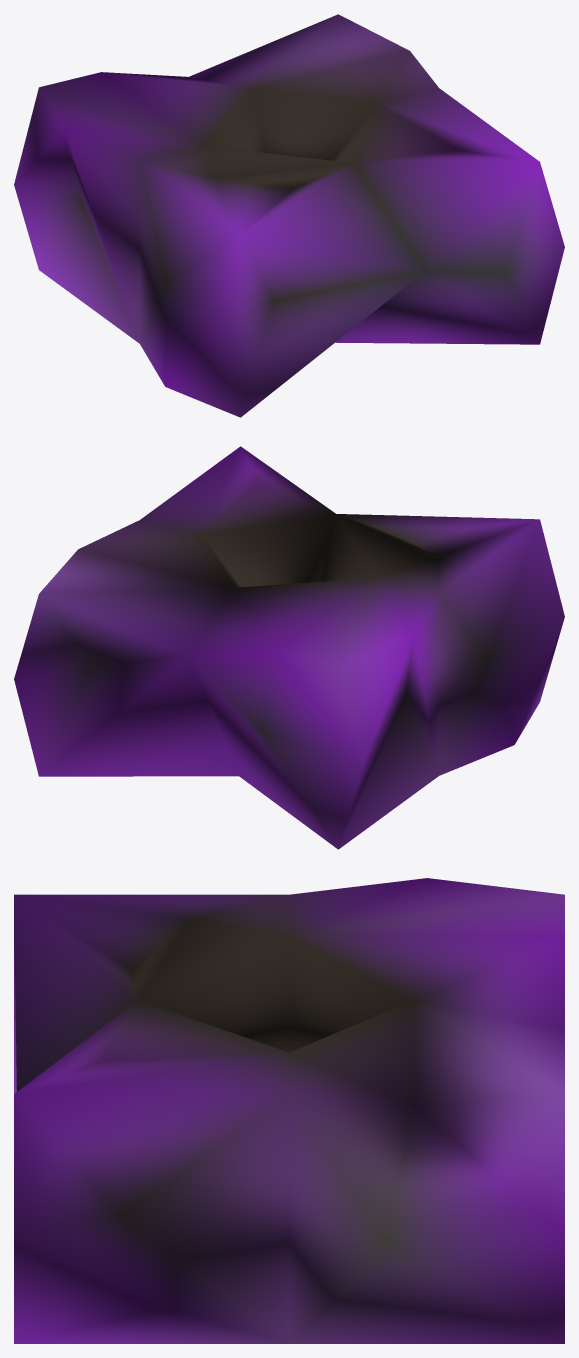
File: ciws_base_lod7.glb
3 views of the same model, one above another, from view 1: azimuth 30°, elevation 25°; view 2: azimuth 150°, elevation 25°; view 3: azimuth 270°, elevation 25° (orthographic). The views are drawn at different scales.
Visible parts, largest first — view 1: ciws_base; view 2: ciws_base; view 3: ciws_base.
Boxes of the visible parts, <box> form: ciws_base: <box>14,14,564,417</box>; ciws_base: <box>14,446,564,849</box>; ciws_base: <box>14,878,564,1343</box>.
Bounding box in the file's own units: 4 × 2 × 4.
